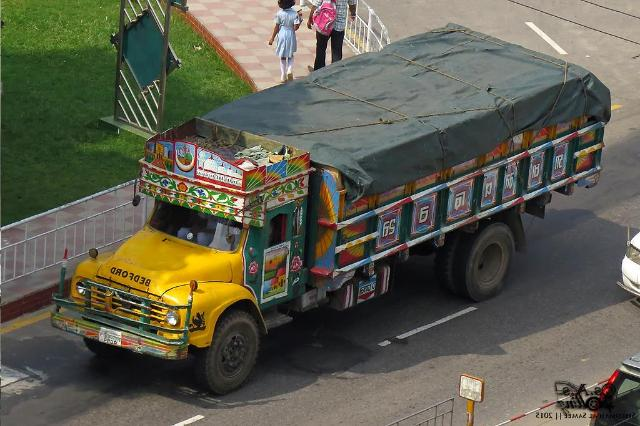truck: (53, 17, 608, 396)
